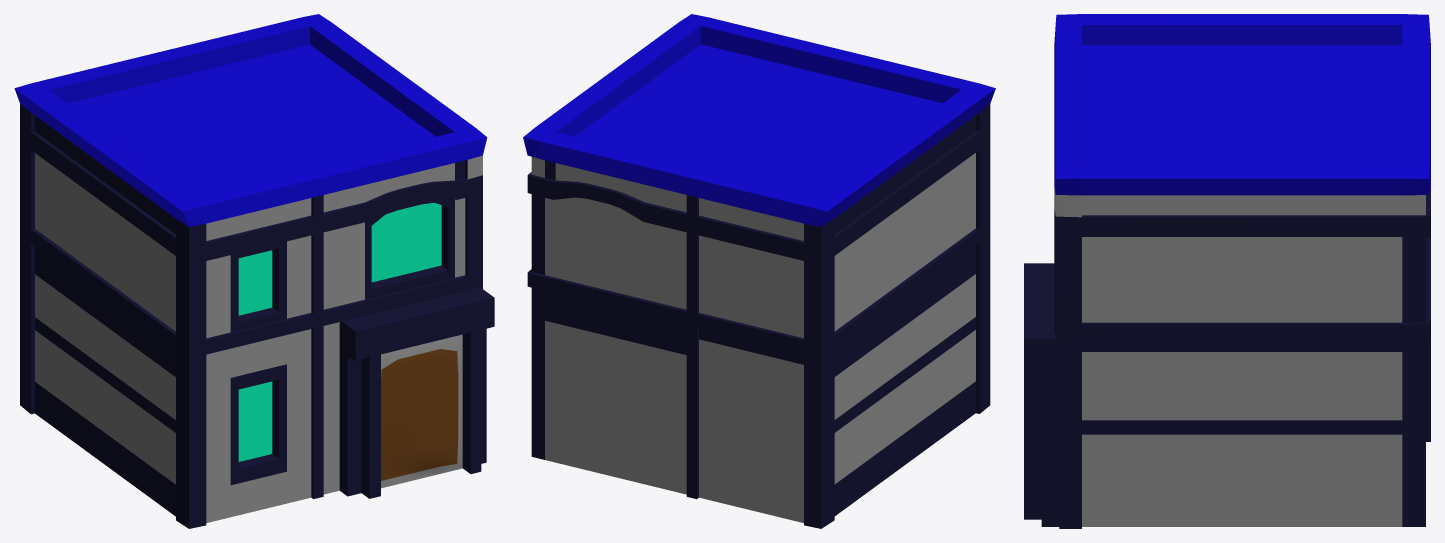
The model's file is MOD_BatA.FBX.
The picture shows the model from 3 angles, left to right: view 1: azimuth 30°, elevation 25°; view 2: azimuth 150°, elevation 25°; view 3: azimuth 270°, elevation 25°; orthographic projection. The views are drawn at different scales.
Parts seen in each view (by area): view 1: batiment_A; view 2: batiment_A; view 3: batiment_A.
Boxes of the visible parts, left/top/right/bottom form: batiment_A: left=14, top=14, right=494, bottom=528; batiment_A: left=523, top=14, right=995, bottom=528; batiment_A: left=1024, top=14, right=1430, bottom=528.
Bounding box in the file's own units: 31.77 × 31.83 × 33.18.
